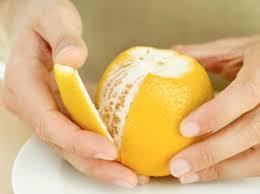Organic: (51, 31, 235, 182)
